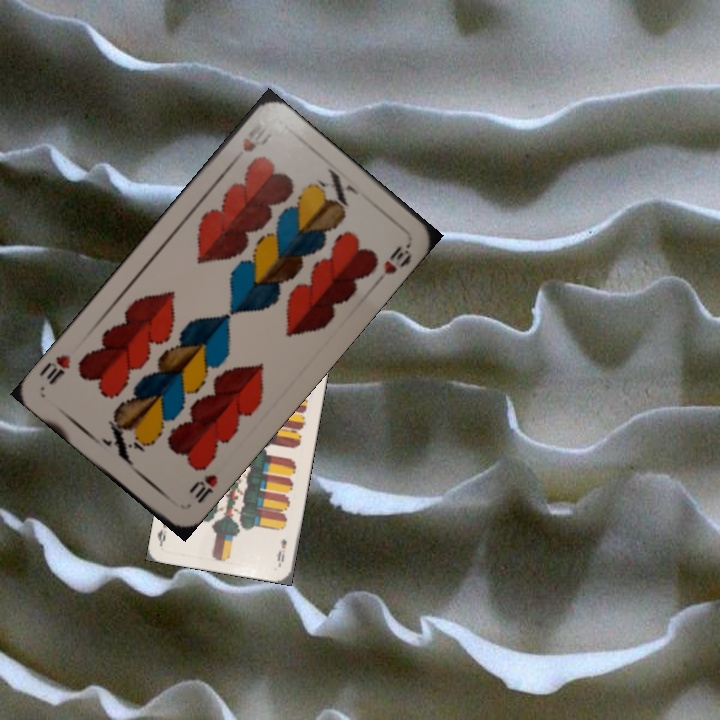E9: (273, 534, 289, 567)
H10: (226, 114, 271, 168), (185, 470, 221, 507)
